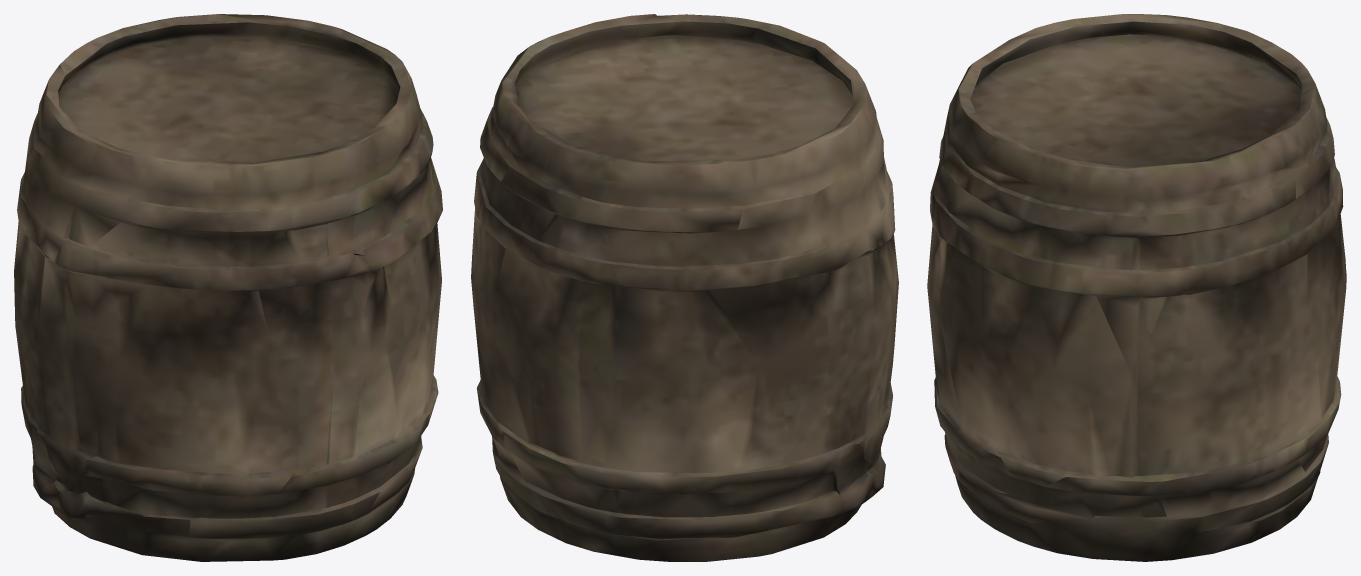
The model's file is sturdy-wood-barrel-v001.glb.
3 views of the same model, side by side, from view 1: azimuth 30°, elevation 25°; view 2: azimuth 150°, elevation 25°; view 3: azimuth 270°, elevation 25° (orthographic).
Visible parts, largest first — view 1: sturdy-wood-barrel; view 2: sturdy-wood-barrel; view 3: sturdy-wood-barrel.
Boxes of the visible parts, x1,y1,x2,y2 form: sturdy-wood-barrel: [14, 14, 442, 561]; sturdy-wood-barrel: [471, 14, 898, 561]; sturdy-wood-barrel: [927, 14, 1346, 561].
Size of the model in its own units: 0.7247 by 0.7282 by 0.7001.
Materials: 1 (1 with a texture image).
